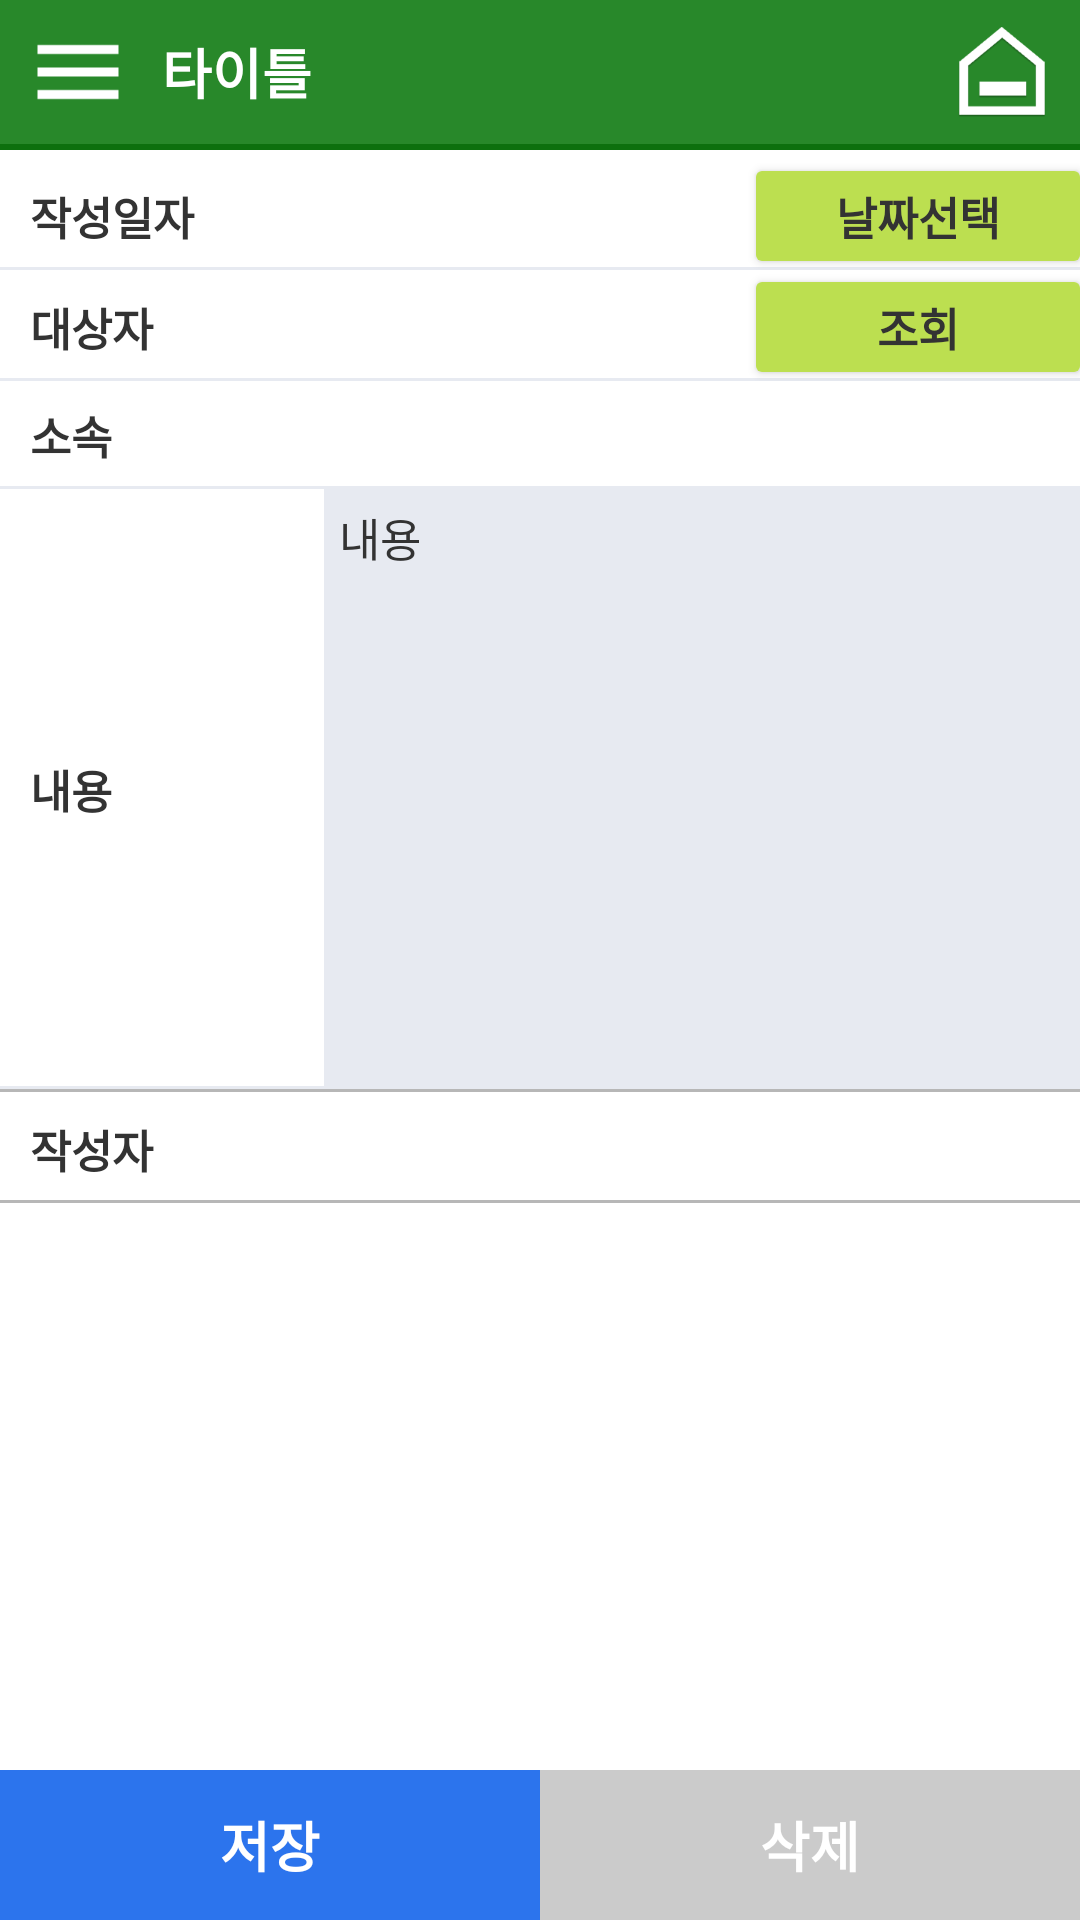

Named icons in this screenshot (1080×1920) and their centers, (x=x, y=y):
menu: (x=78, y=72)
top home: (x=1002, y=71)
